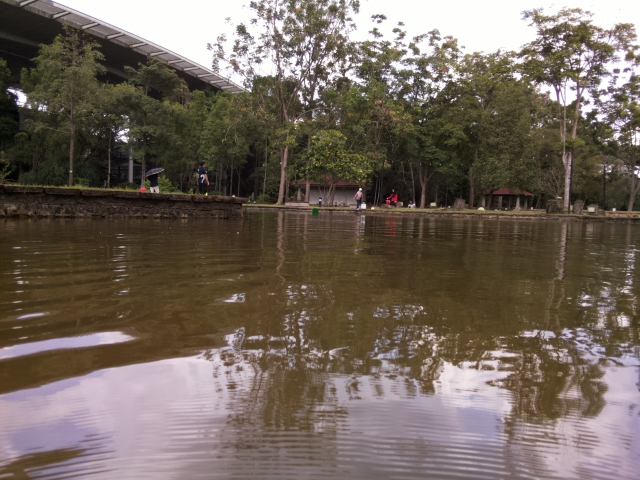obstacle: (311, 207, 321, 217)
